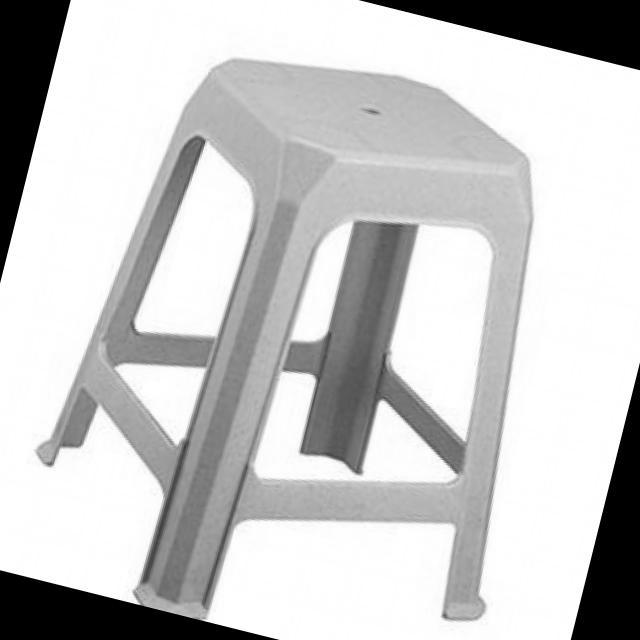chair: (2, 6, 603, 640)
